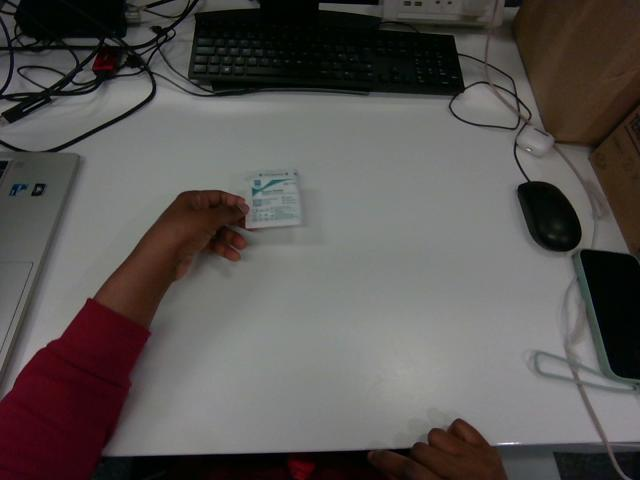gauze: (244, 169, 301, 228)
